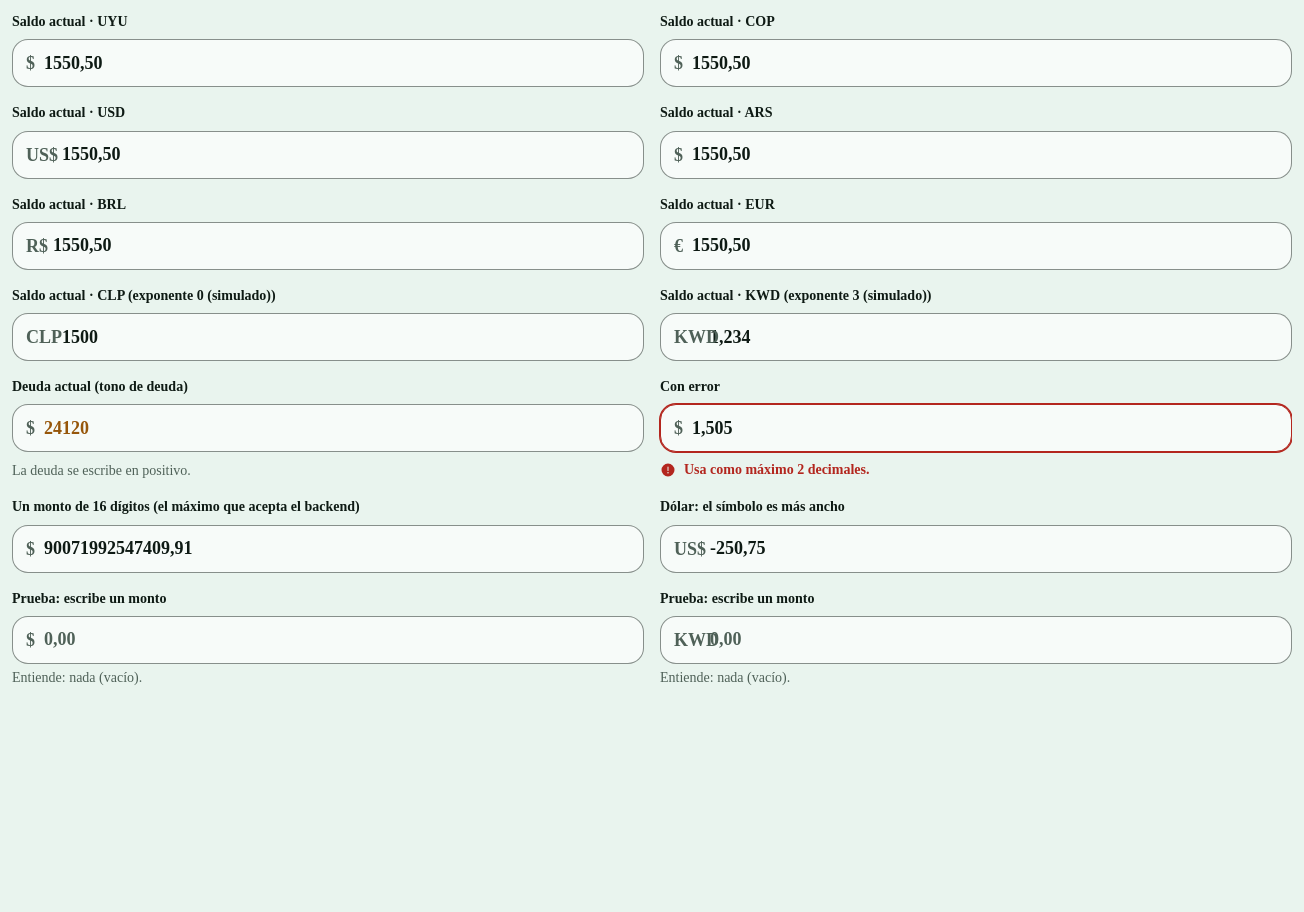
Test: MoneyDemo and PickersDemo › tells what the parser understands from what is typed
The image size is (1304, 912).
Expected: the 1st text "Entiende: nada (vacío)." is shown, [12,670,142,685]
Step 1. Type "0,29" into the 1st field labelled "Prueba: escribe un monto" → (328,640), box [12,616,644,664]
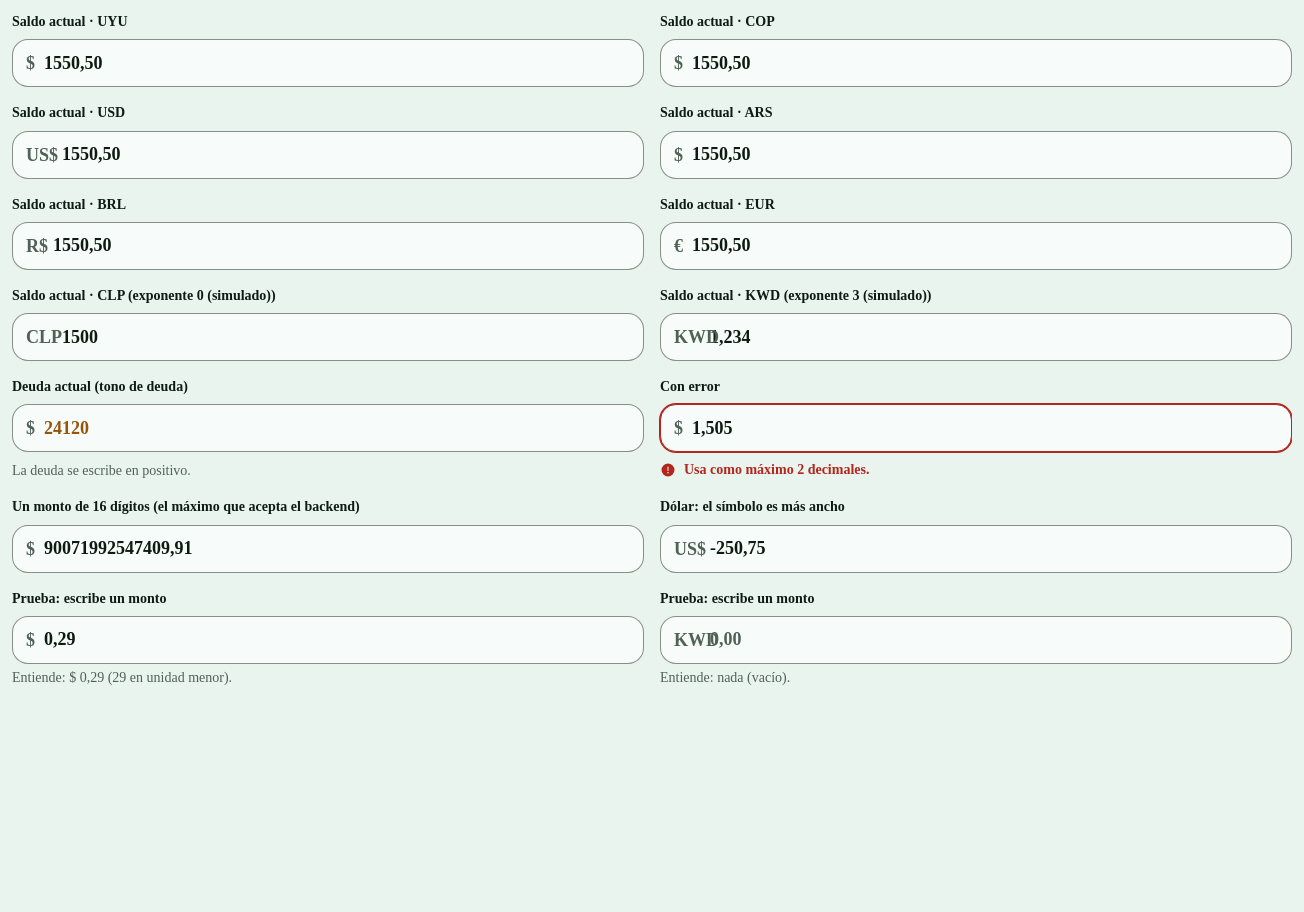
Expected: the text "Entiende: $ 0,29 (29 en unidad menor)." is shown, [12,670,232,685]
Step 2. Replace the text in the 1st field labelled "Prueba: escribe un monto" with "1,505" → (328,640), box [12,616,644,664]
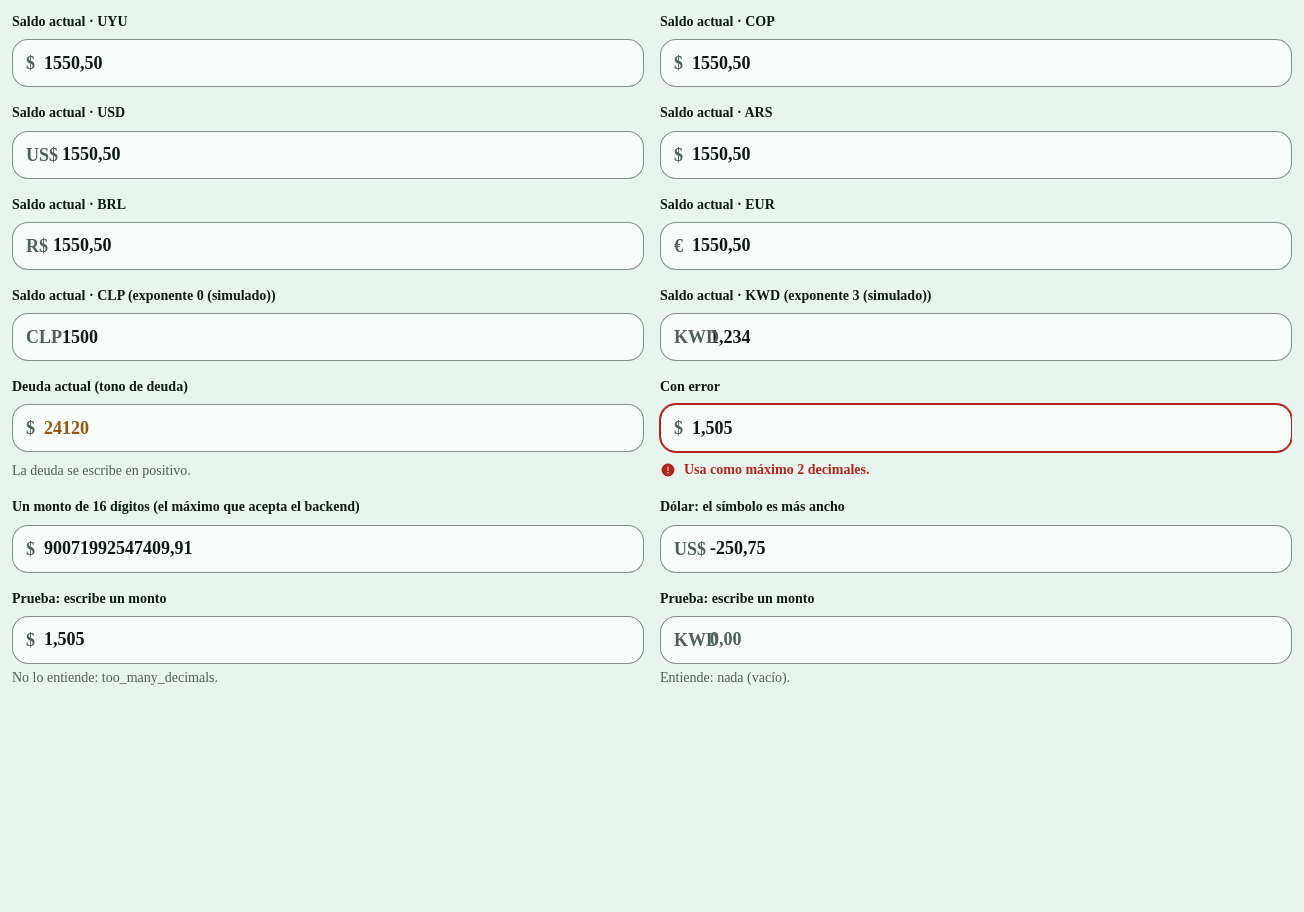
Expected: the text "No lo entiende: too_many_decimals." is shown, [12,670,218,685]
